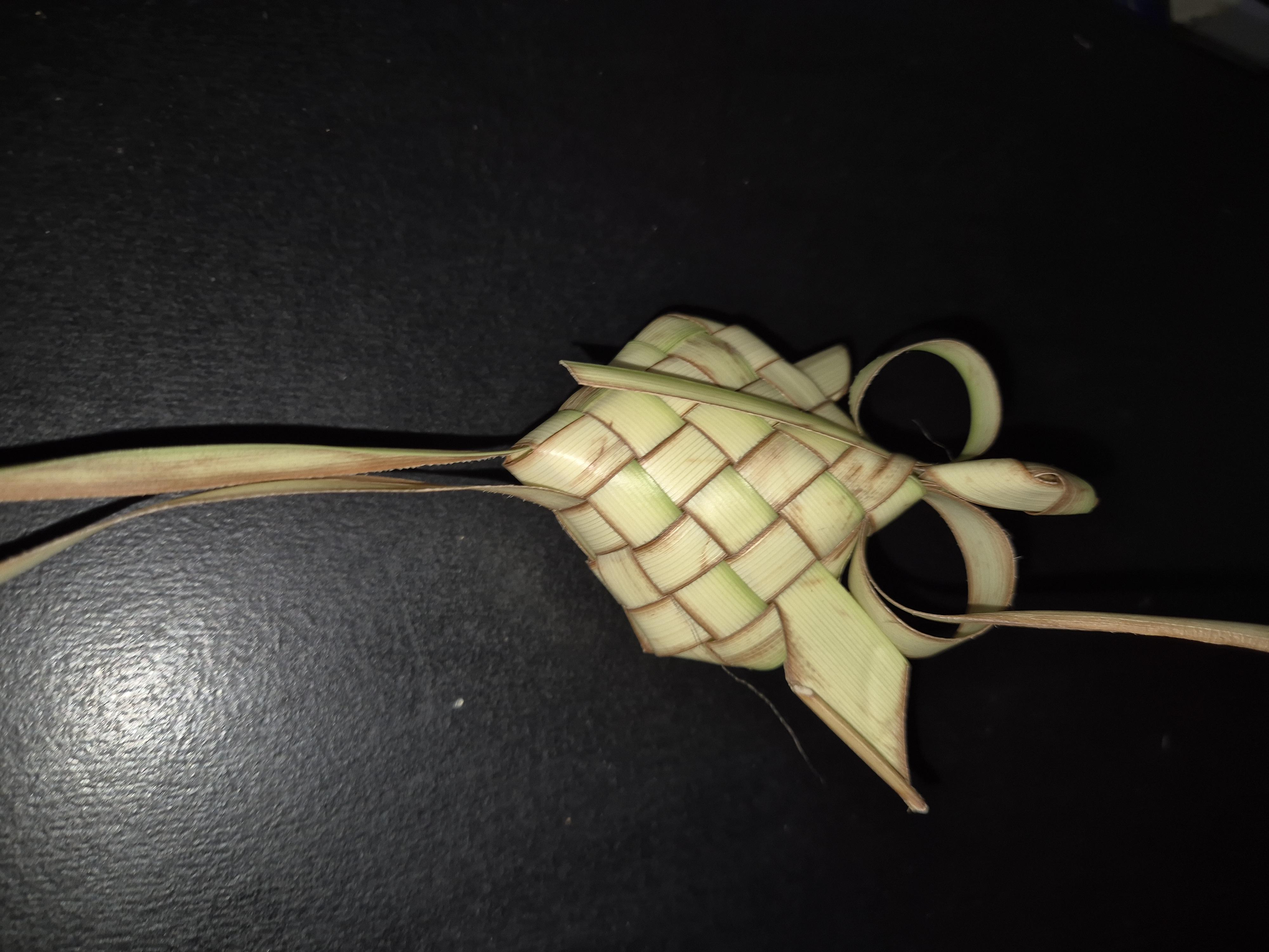Tipat Dampulan: (189, 380, 851, 821)
